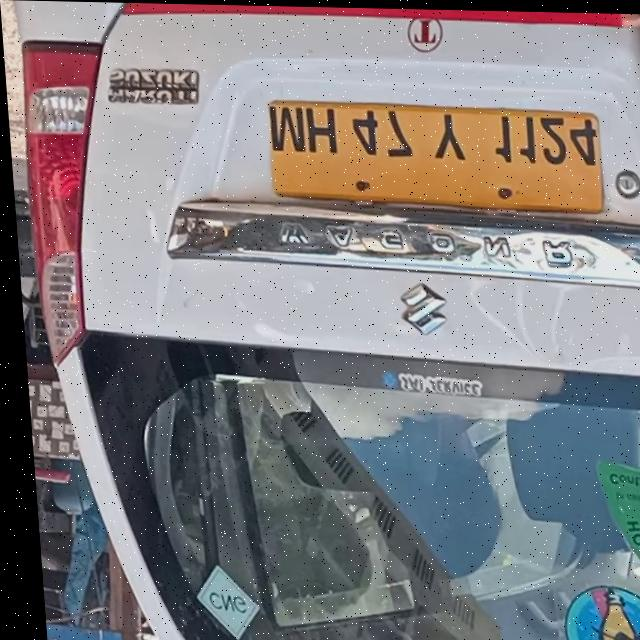plate: (265, 94, 603, 222)
